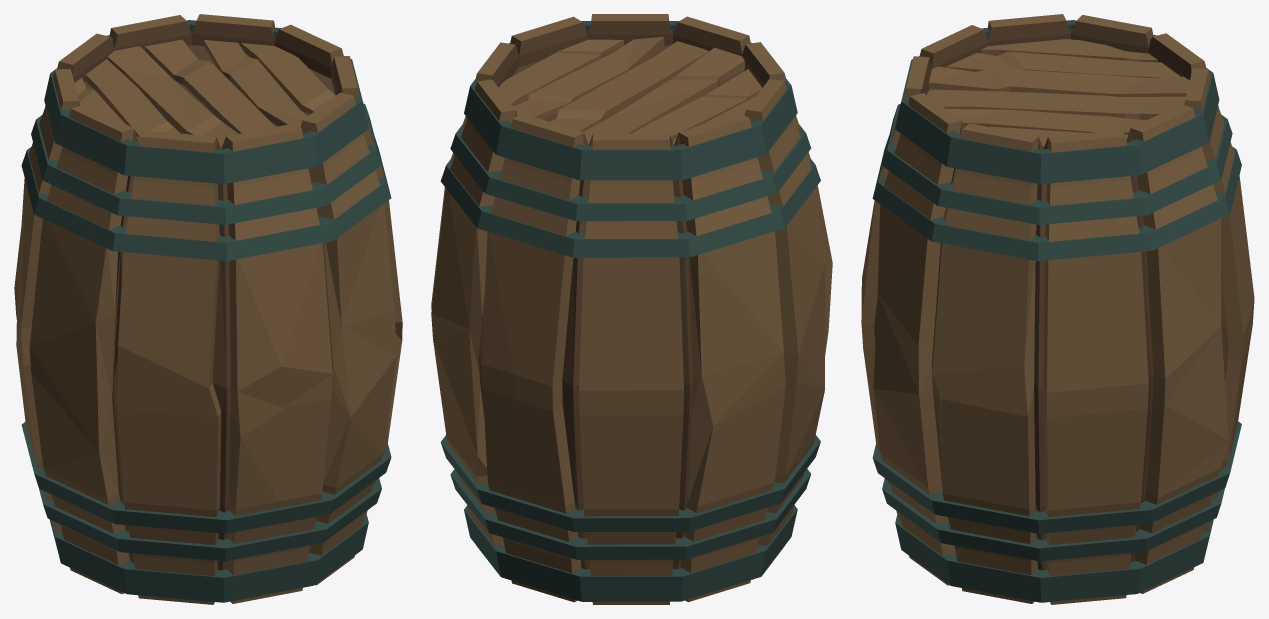
File: DressBarrel.glb
3 views of the same model, side by side, from view 1: azimuth 30°, elevation 25°; view 2: azimuth 150°, elevation 25°; view 3: azimuth 270°, elevation 25° (orthographic).
Parts seen in each view (by area): view 1: DressBarrel; view 2: DressBarrel; view 3: DressBarrel.
Part boxes in pixels (x1,y1,x2,y2): DressBarrel: (14, 14, 402, 604); DressBarrel: (431, 14, 832, 604); DressBarrel: (861, 14, 1254, 604).
Bounding box in the file's own units: 0.813 × 1.05 × 0.8059.
